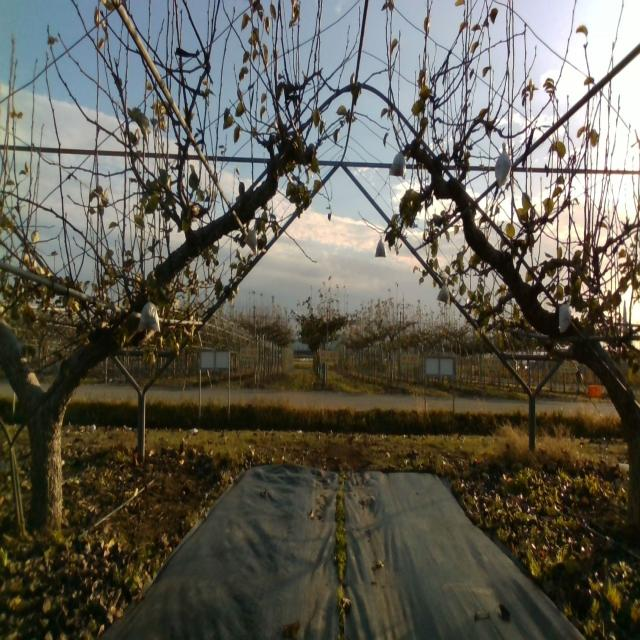pearbags: (138, 297, 160, 336), (495, 144, 511, 187), (558, 294, 573, 334), (389, 149, 406, 178), (436, 282, 452, 306), (243, 229, 258, 254), (375, 234, 385, 257)
